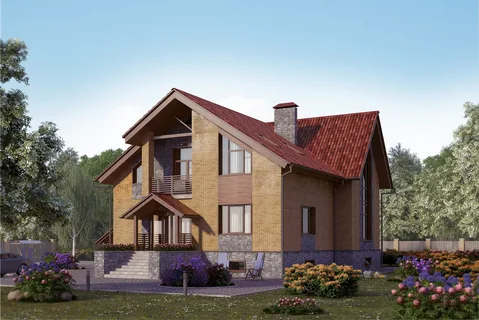private_hause: (106, 87, 394, 272)
